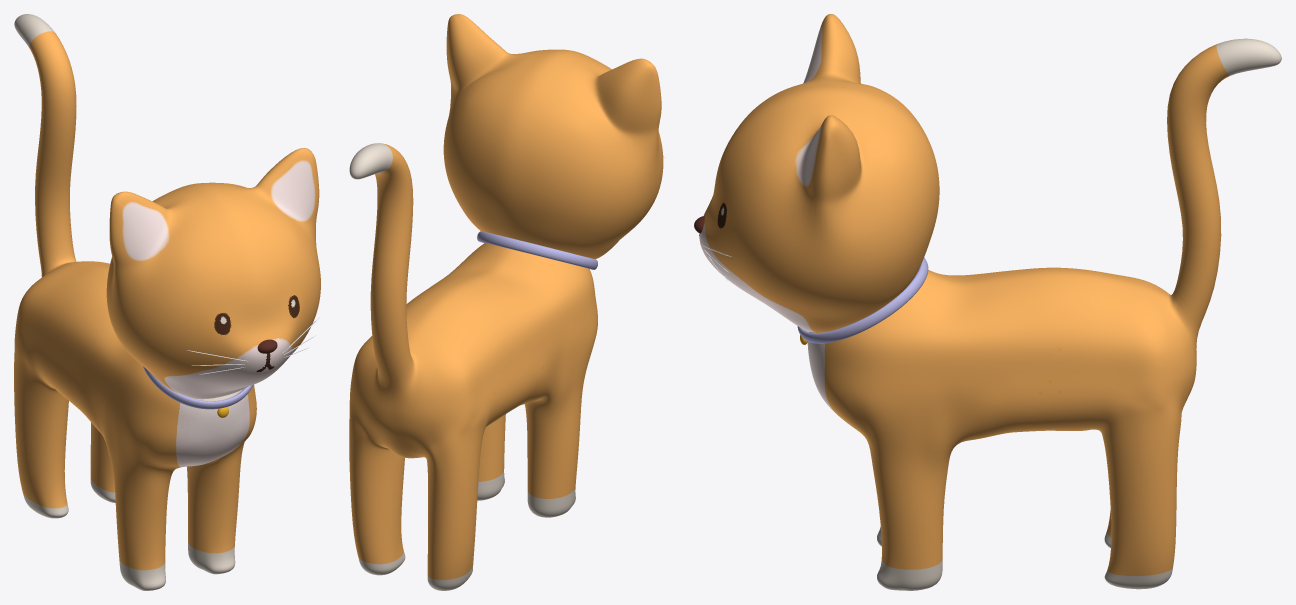
Rendered from cat_NH.glb.
3 views of the same model, side by side, from view 1: azimuth 30°, elevation 25°; view 2: azimuth 150°, elevation 25°; view 3: azimuth 270°, elevation 25° (orthographic). The views are drawn at different scales.
Visible parts, largest first — view 1: cat body, cat head, cat collar; view 2: cat body, cat head, cat collar; view 3: cat body, cat head, cat collar.
Boxes of the visible parts, left/top/right/bottom form: cat body: left=14, top=14, right=256, bottom=590; cat head: left=106, top=148, right=320, bottom=399; cat collar: left=143, top=366, right=253, bottom=409; cat body: left=349, top=143, right=597, bottom=590; cat head: left=443, top=14, right=663, bottom=259; cat collar: left=477, top=231, right=597, bottom=269; cat body: left=807, top=38, right=1281, bottom=590; cat head: left=699, top=14, right=939, bottom=332; cat collar: left=797, top=257, right=928, bottom=343.
Size of the model in its own units: 1.92 by 4 by 4.03.
6 materials, 2 textured.
